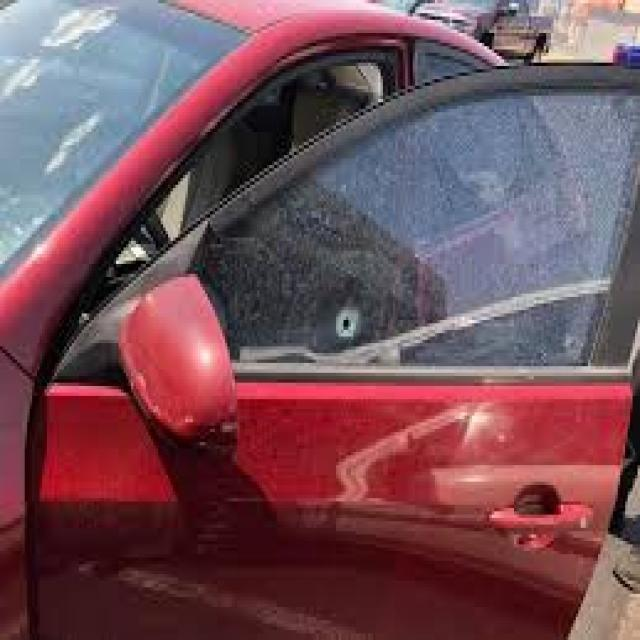damaged-window: (193, 82, 634, 376)
